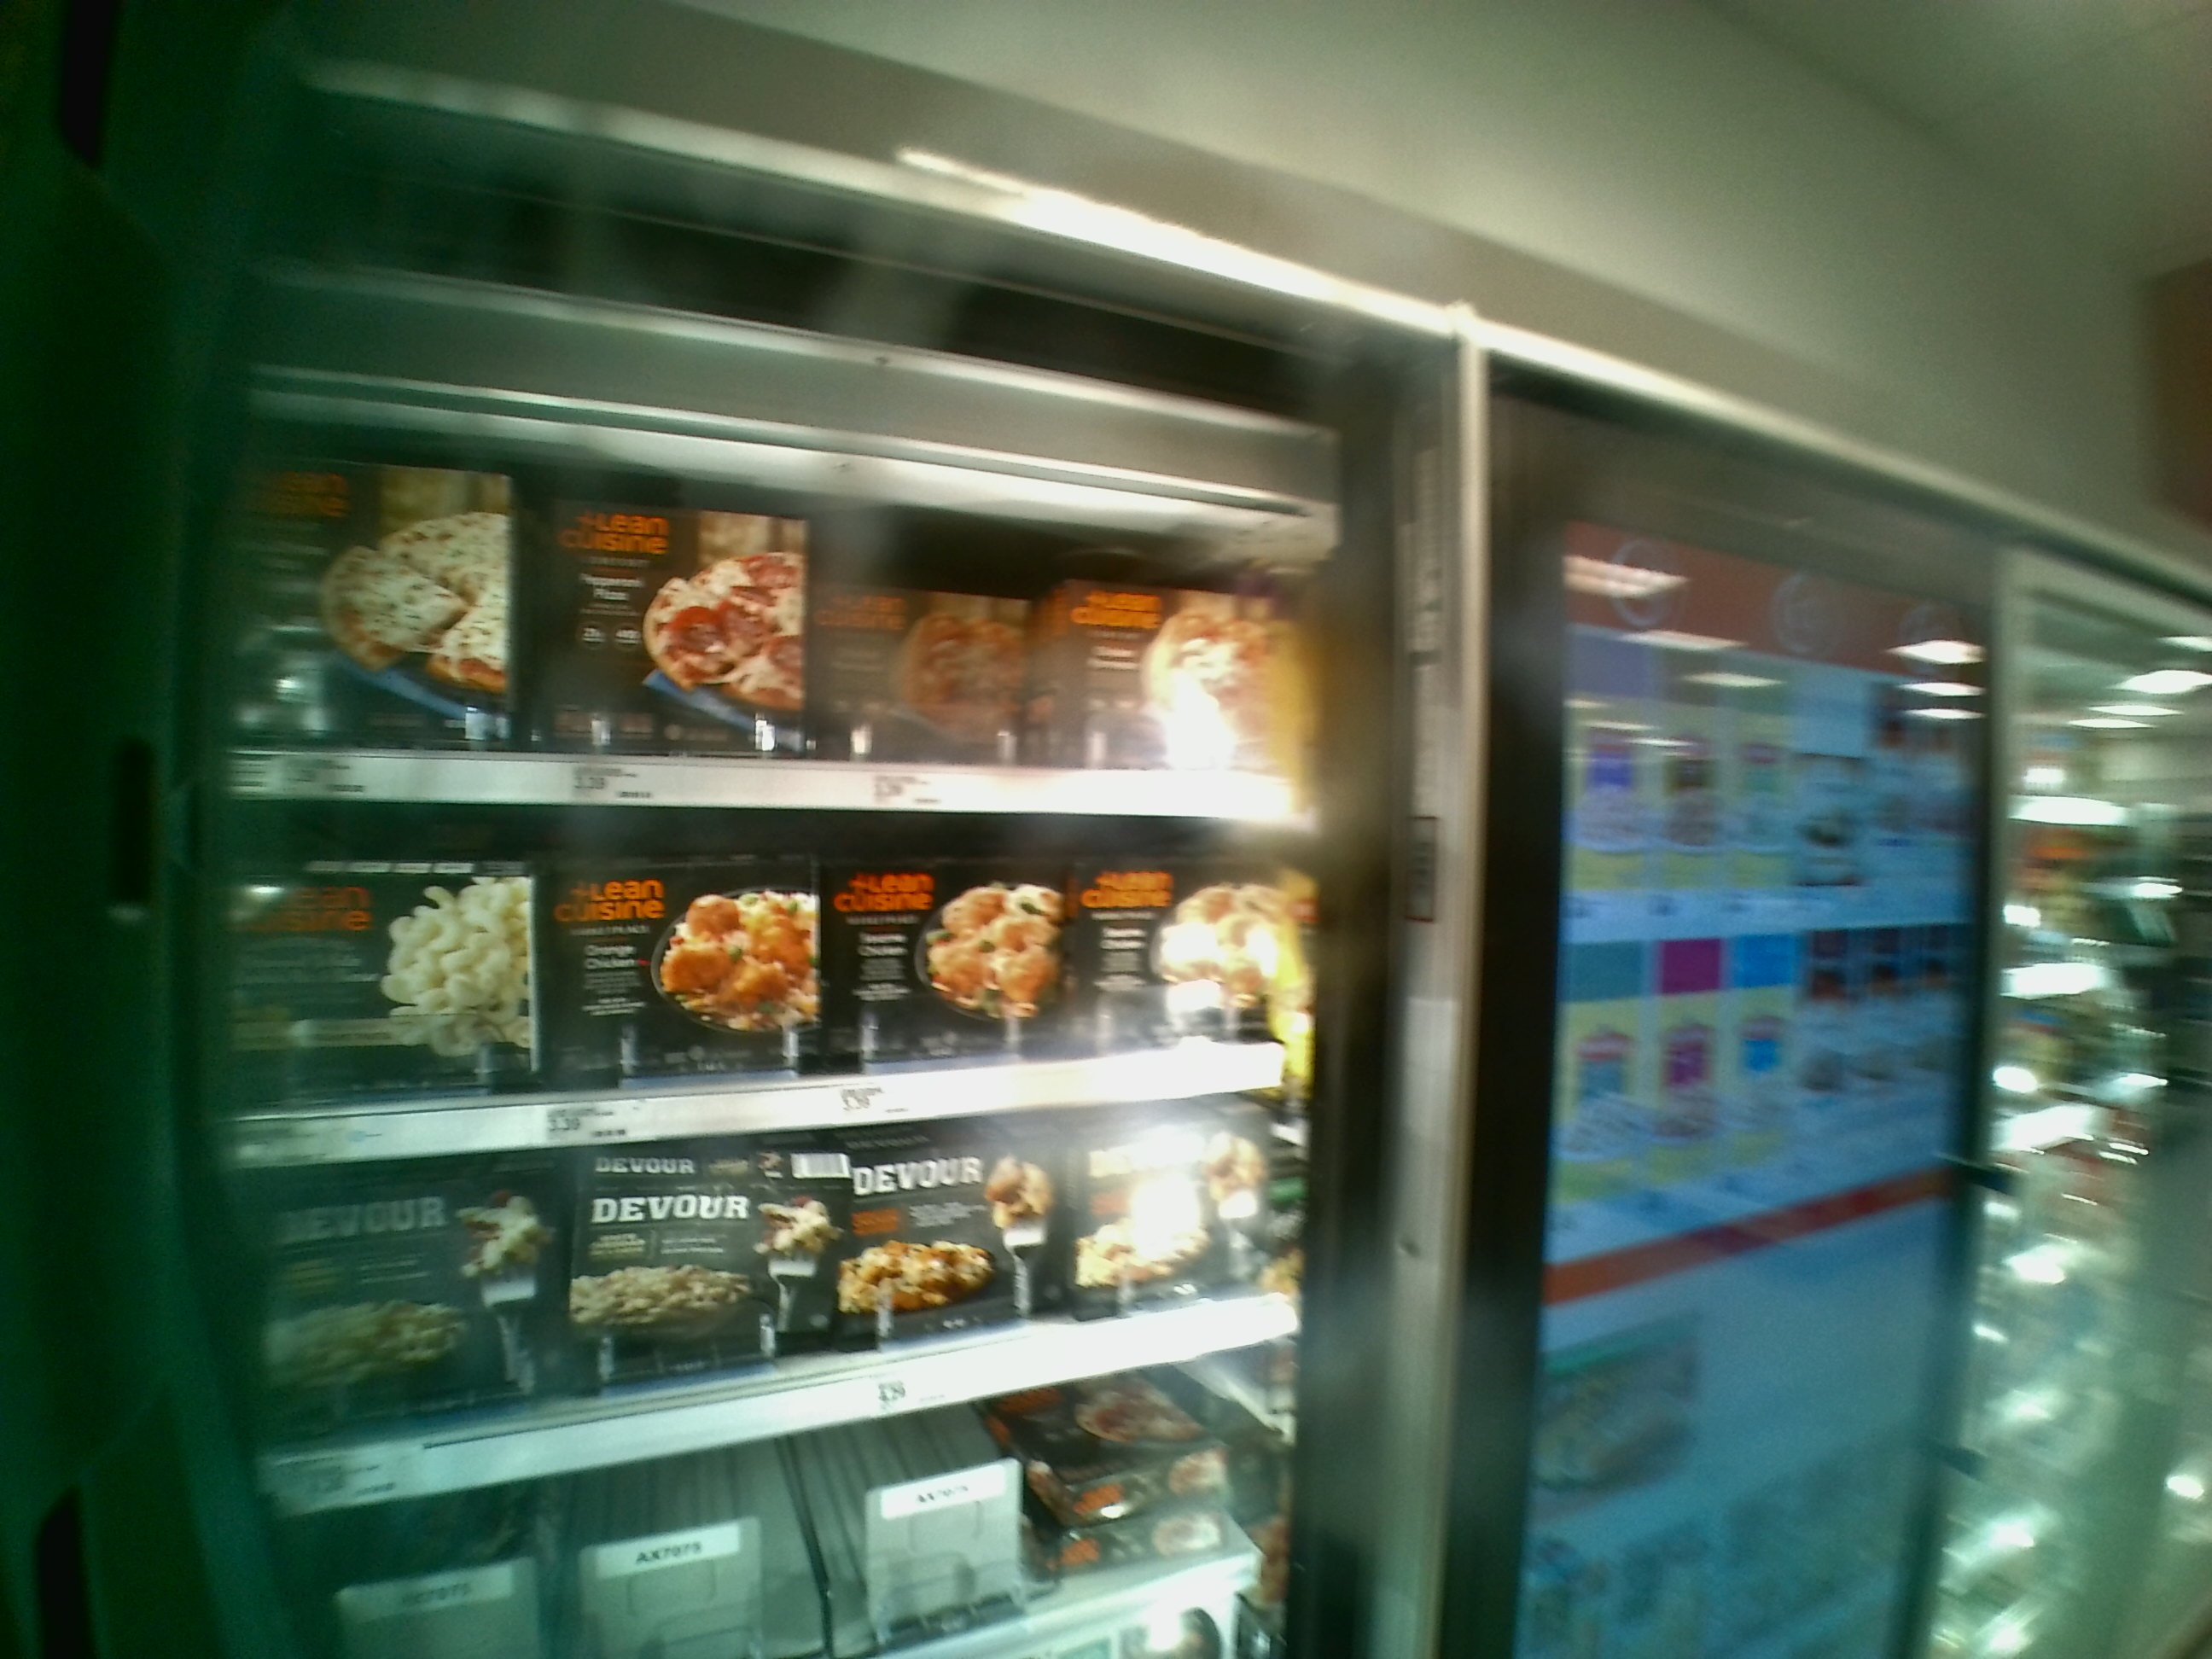shelf: (230, 416, 1310, 828), (209, 793, 1318, 1168)
